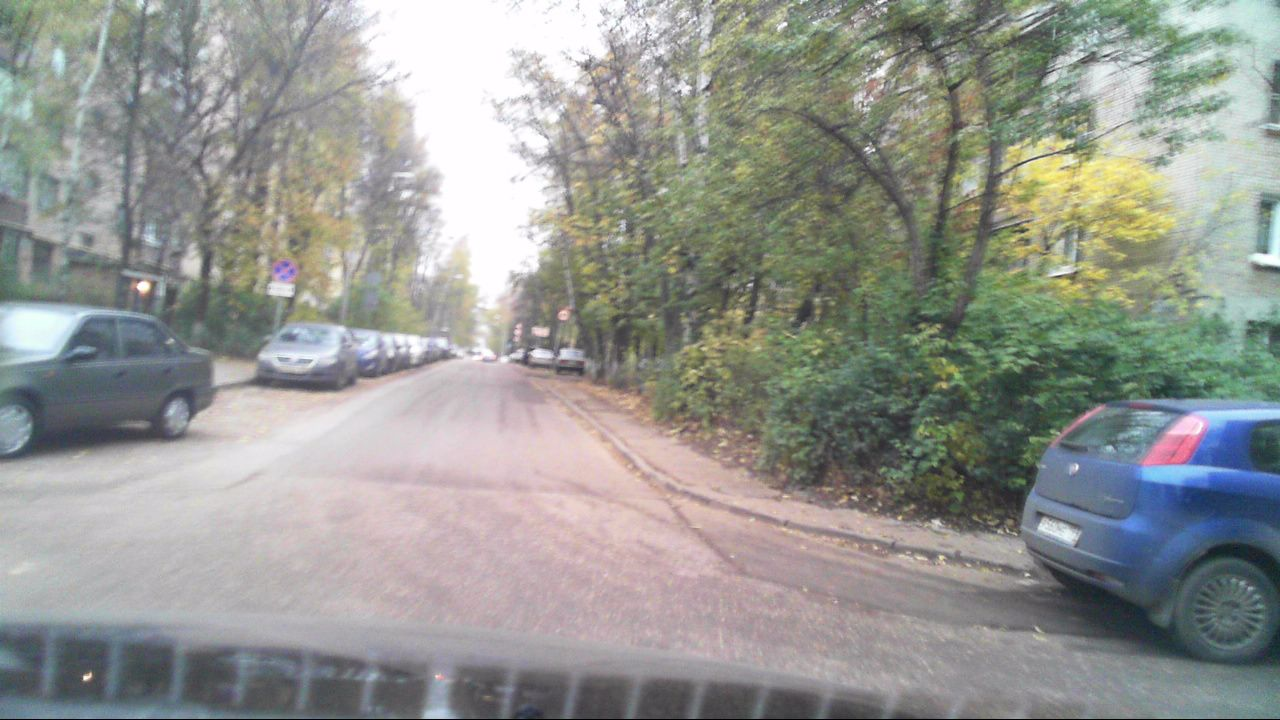No Parking: (273, 257, 296, 282)
